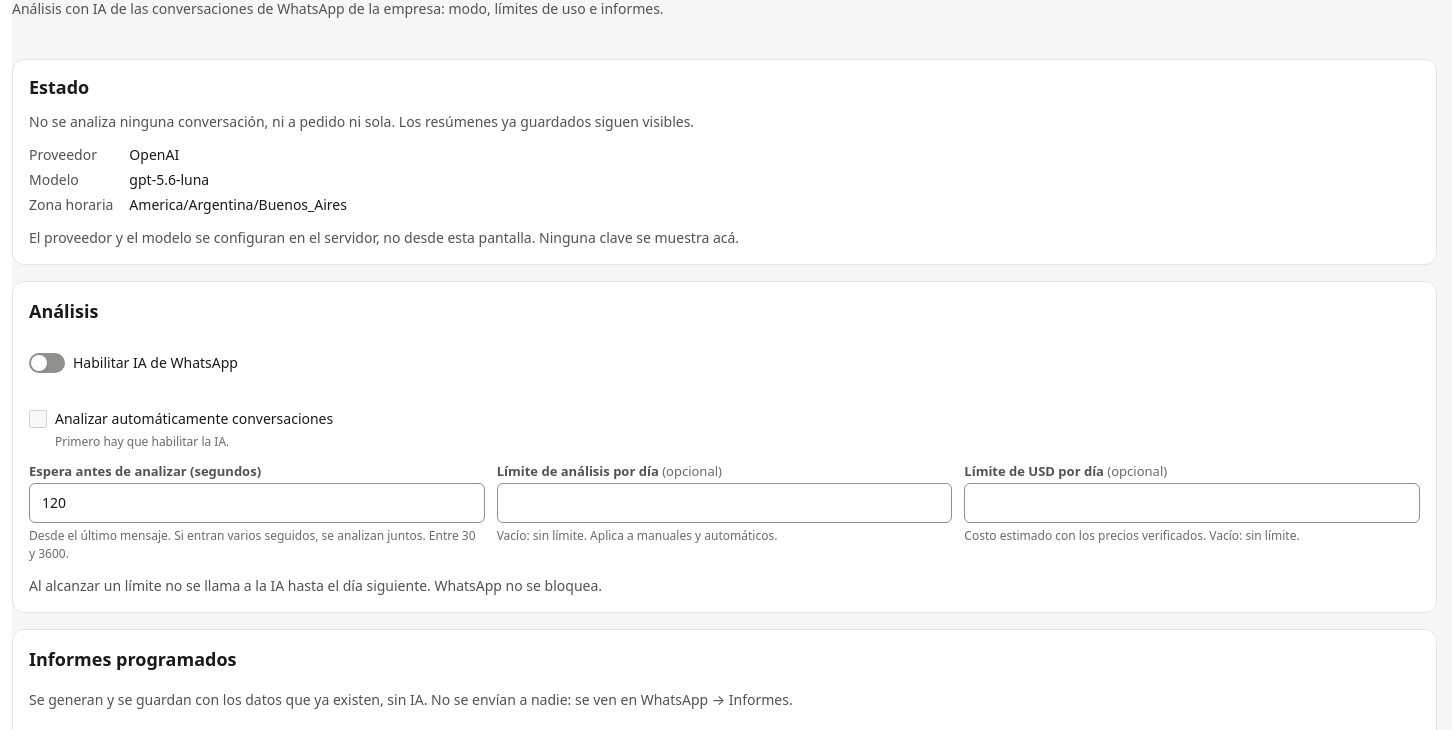
Test: Configuración → WhatsApp · IA › un conflicto de versión se dice en palabras
Click the switch labelled "Habilitar IA de WhatsApp" at (133,362), box left=29, top=352, right=238, bottom=372
(page scrolled)
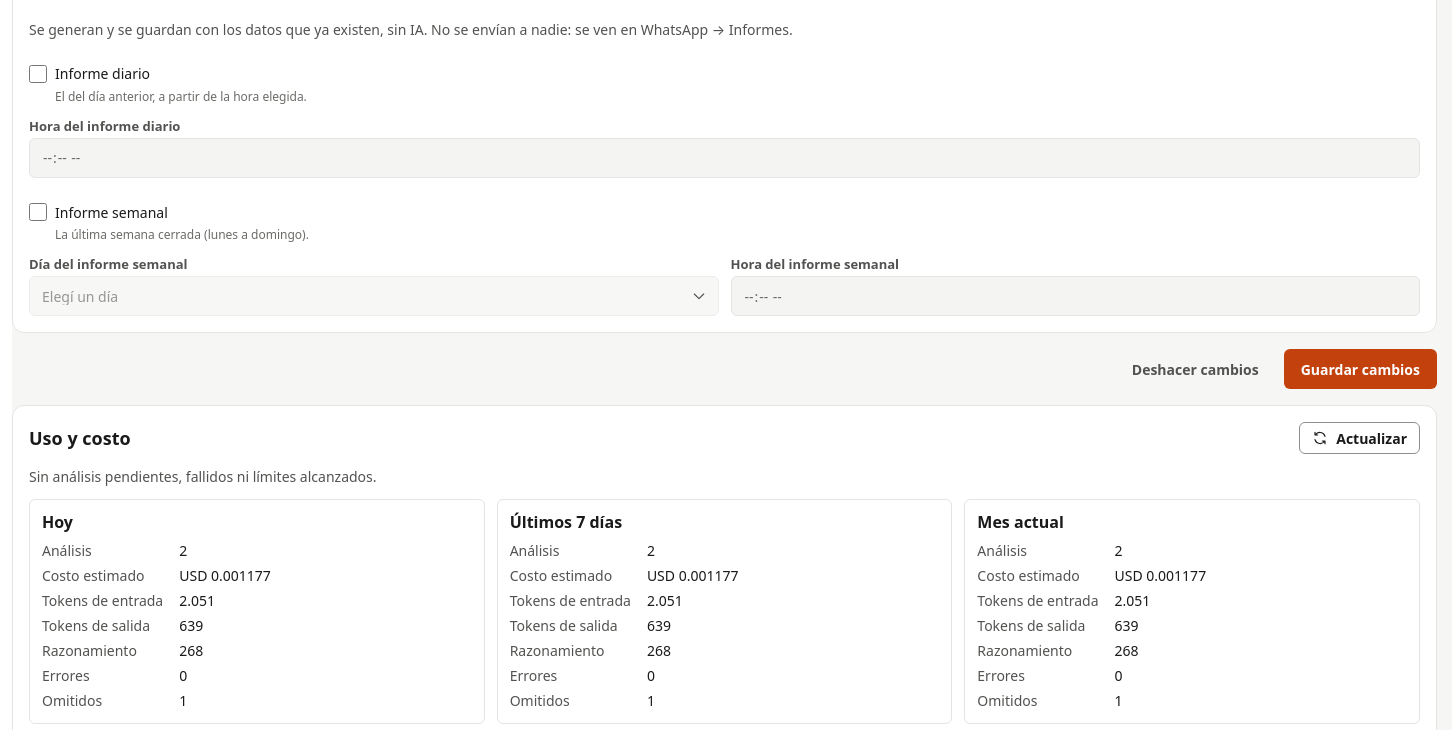
Click the button "Guardar cambios" at (1360,369), box left=1284, top=349, right=1437, bottom=389
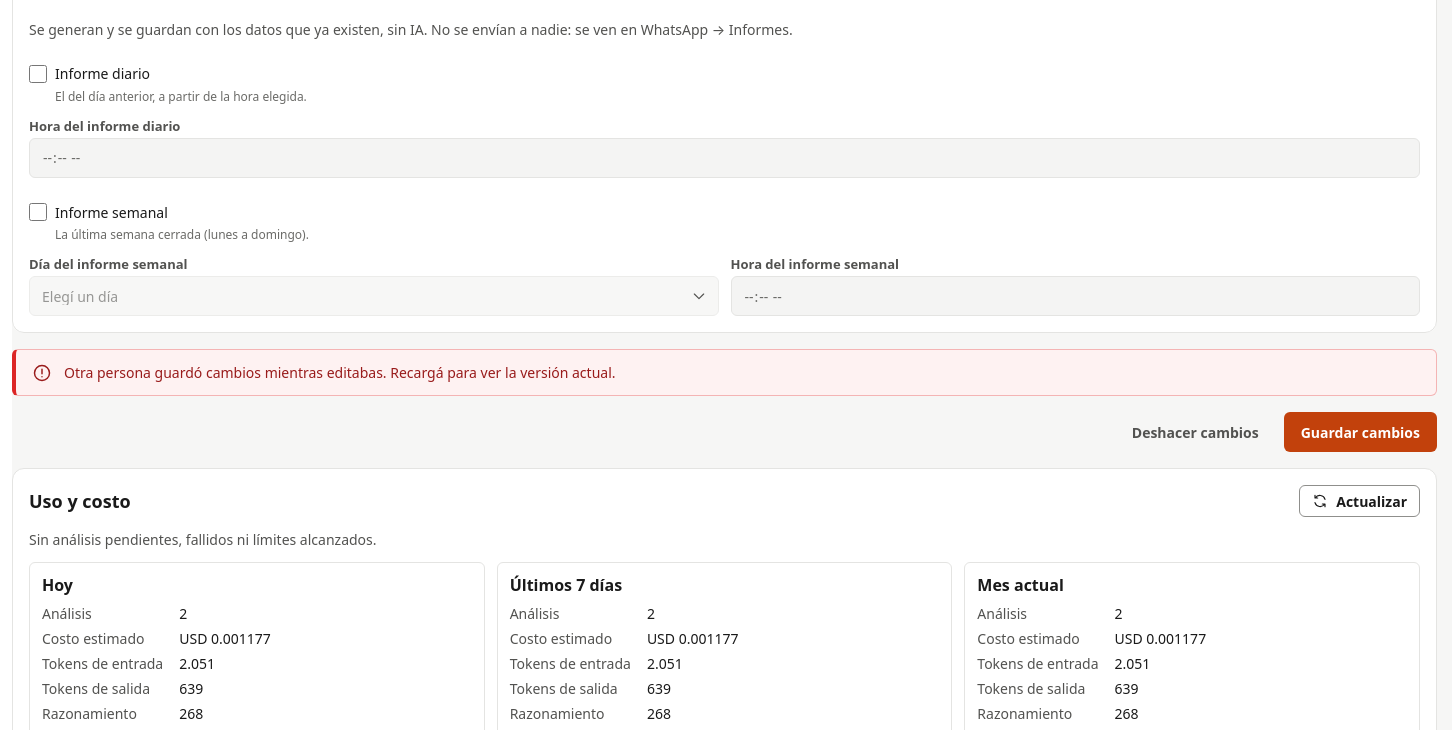
Expected: the message shows "Otra persona guardó cambios", left=64, top=363, right=616, bottom=382
